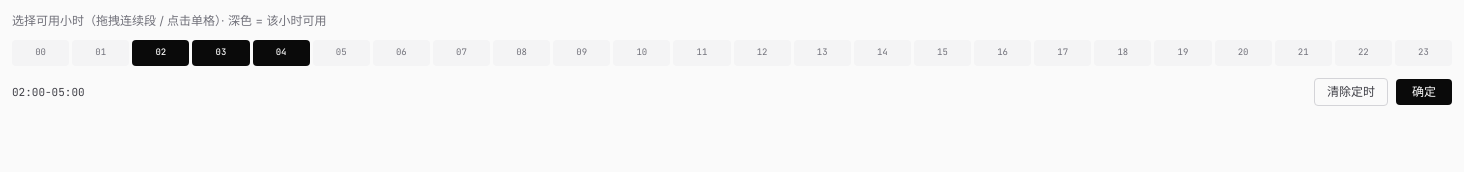
Test: HourGridPicker — 渲染与草稿操作 › 已选段内反向拖拽减选：[2,3,4] 从 4 拖到 2 → 全关 + footer「未选择」
Press the mouse on the cell "04" at (281, 53), box [252,40,310,66]
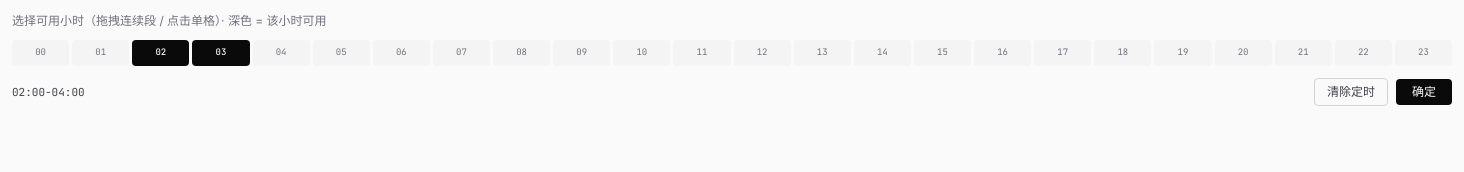
Hover over the cell "02" at (161, 53), box [132,40,189,66]
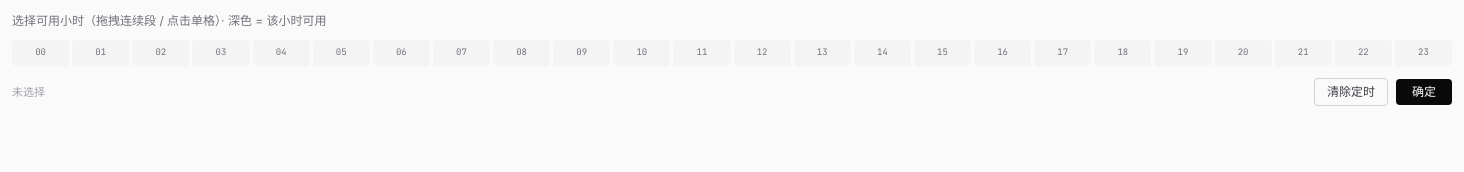
Check: the text with test id "hour-grid-selected" reads "未选择", box [12,85,45,99]
